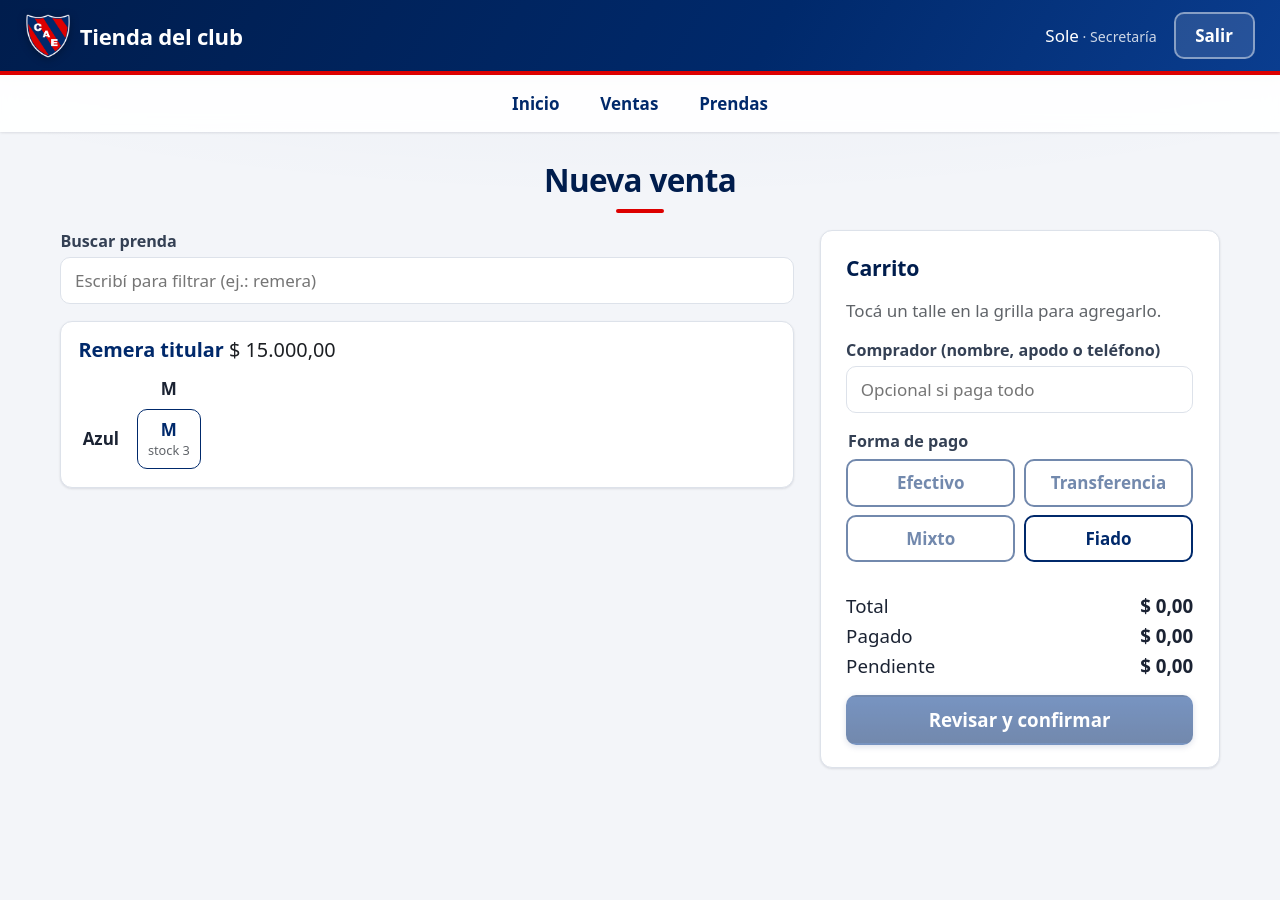
Test case: Nueva venta › venta simple en efectivo: prenda → todo en efectivo → revisar → confirmar
This screenshot has width=1280, height=900.
In the search field labelled "Buscar prenda": (427, 281) top-left (60, 257), bottom-right (794, 304), type "remera"
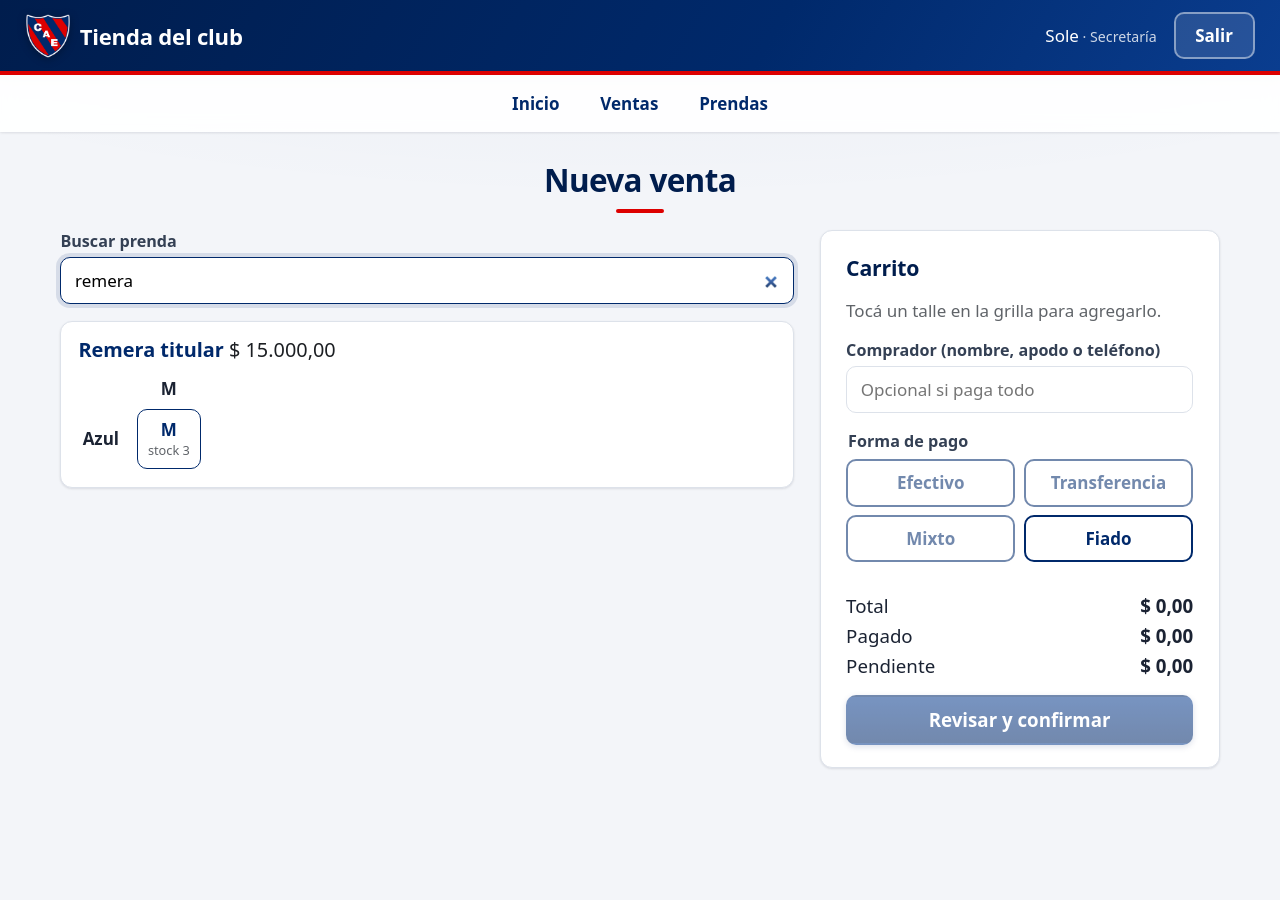
Click the button with aria-label "Azul M, stock 3": (169, 439) top-left (137, 409), bottom-right (201, 469)
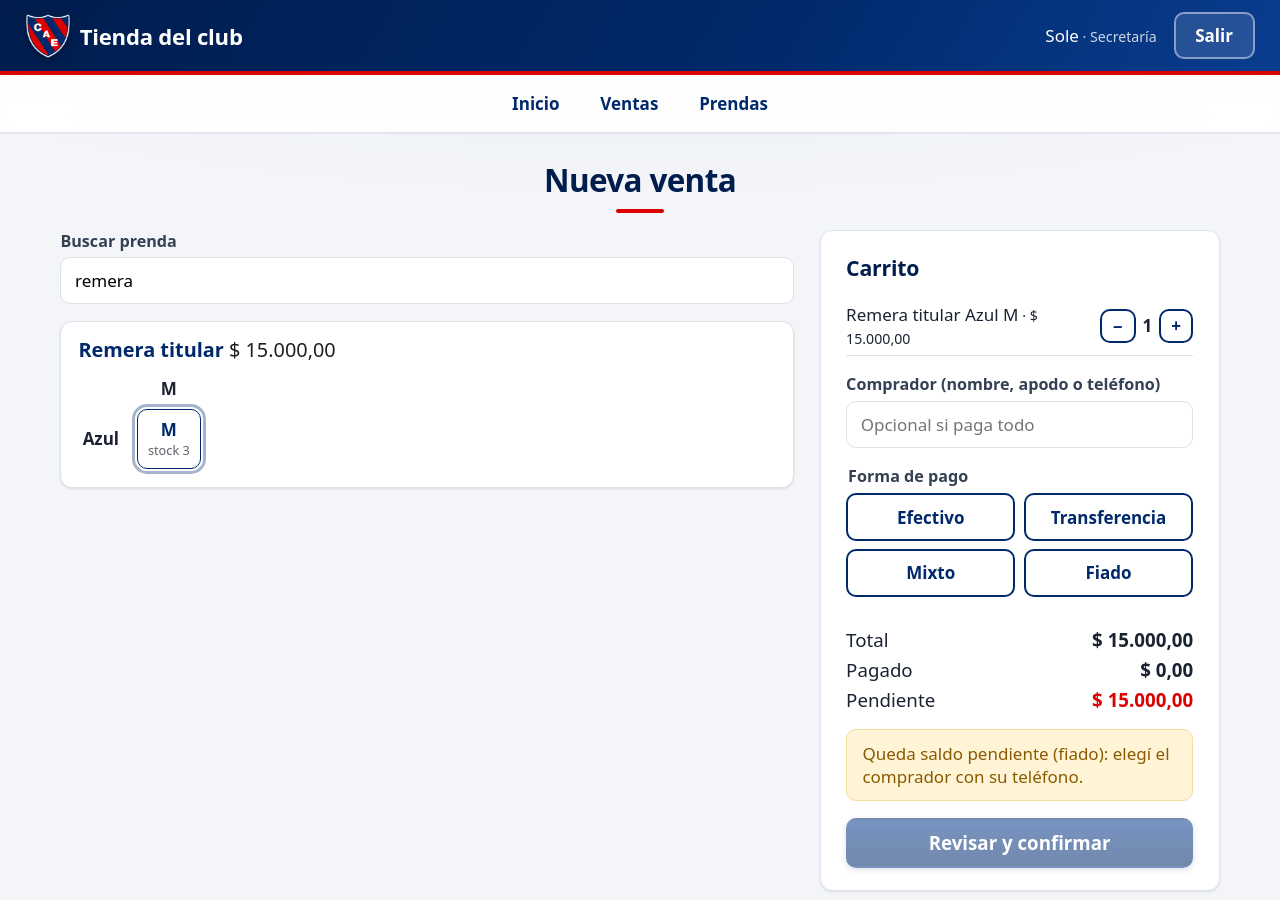
Click the button "Efectivo": (931, 517) top-left (846, 493), bottom-right (1015, 541)
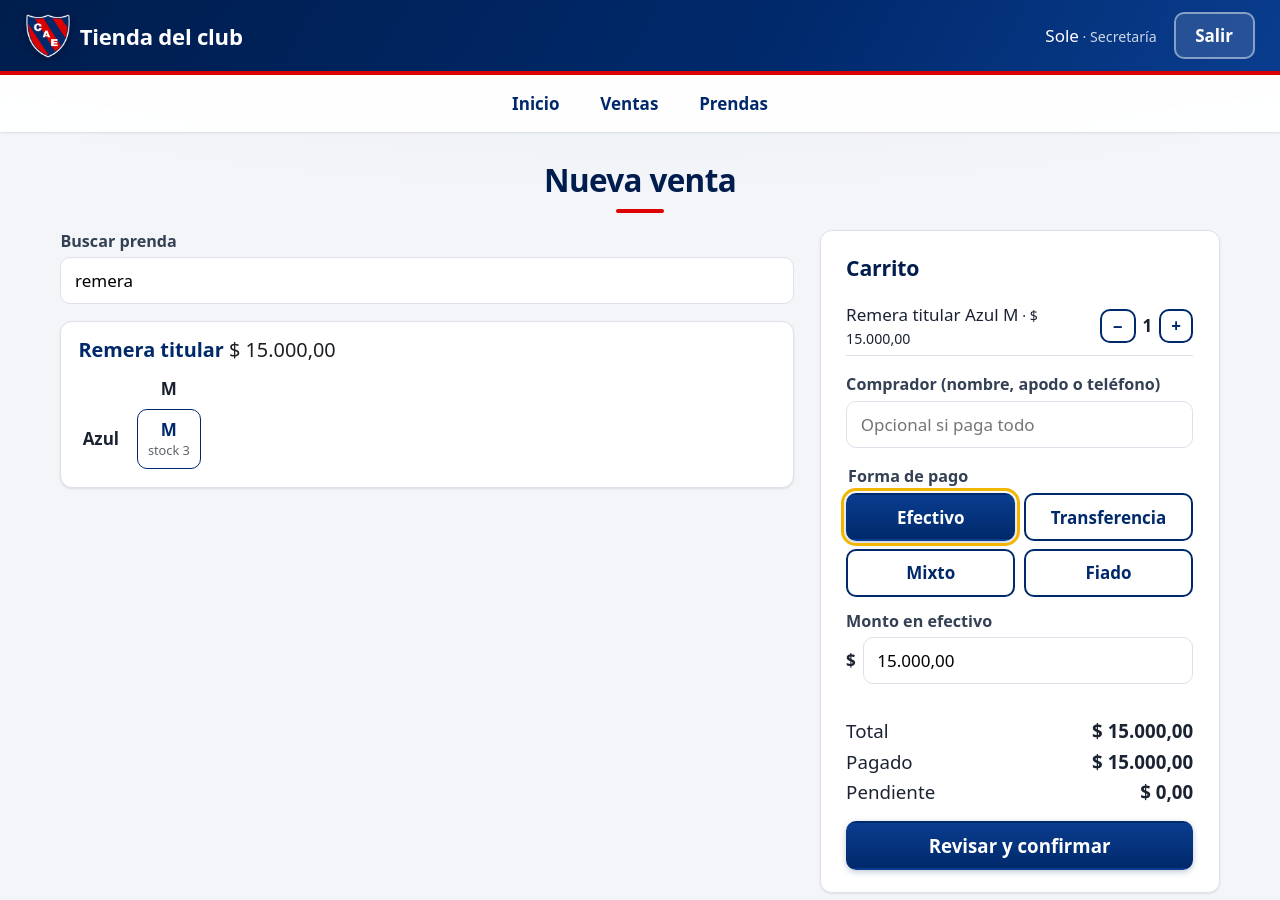
Click the button "Revisar y confirmar": (1020, 845) top-left (846, 821), bottom-right (1193, 870)
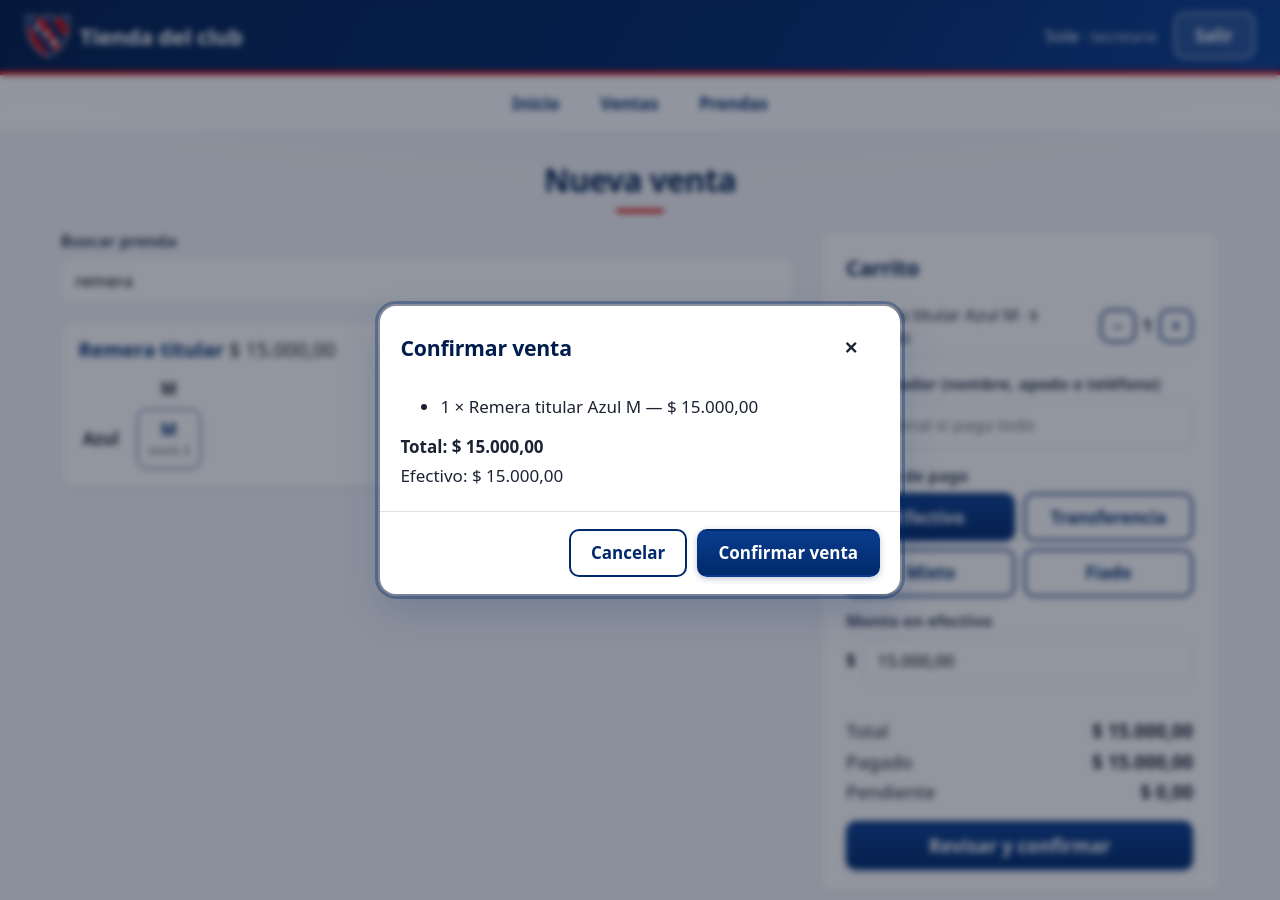
Expected: the text "Total: $ 15.000,00" is shown, top-left (400, 435), bottom-right (544, 458)
Click the button "Confirmar venta": (788, 553) top-left (697, 529), bottom-right (880, 577)
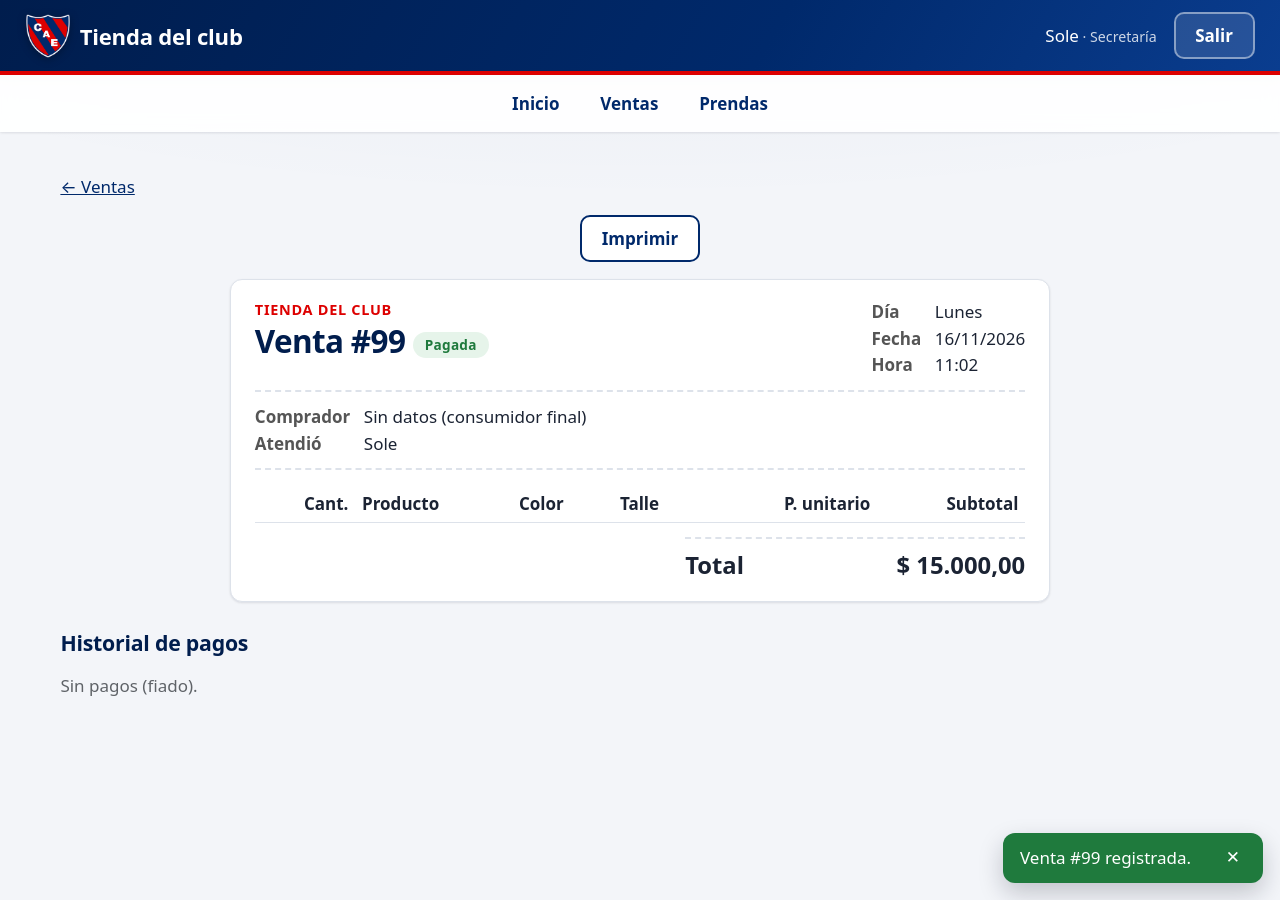
Expected: the heading "Venta #99 Pagada" is shown, top-left (255, 319), bottom-right (489, 362)
